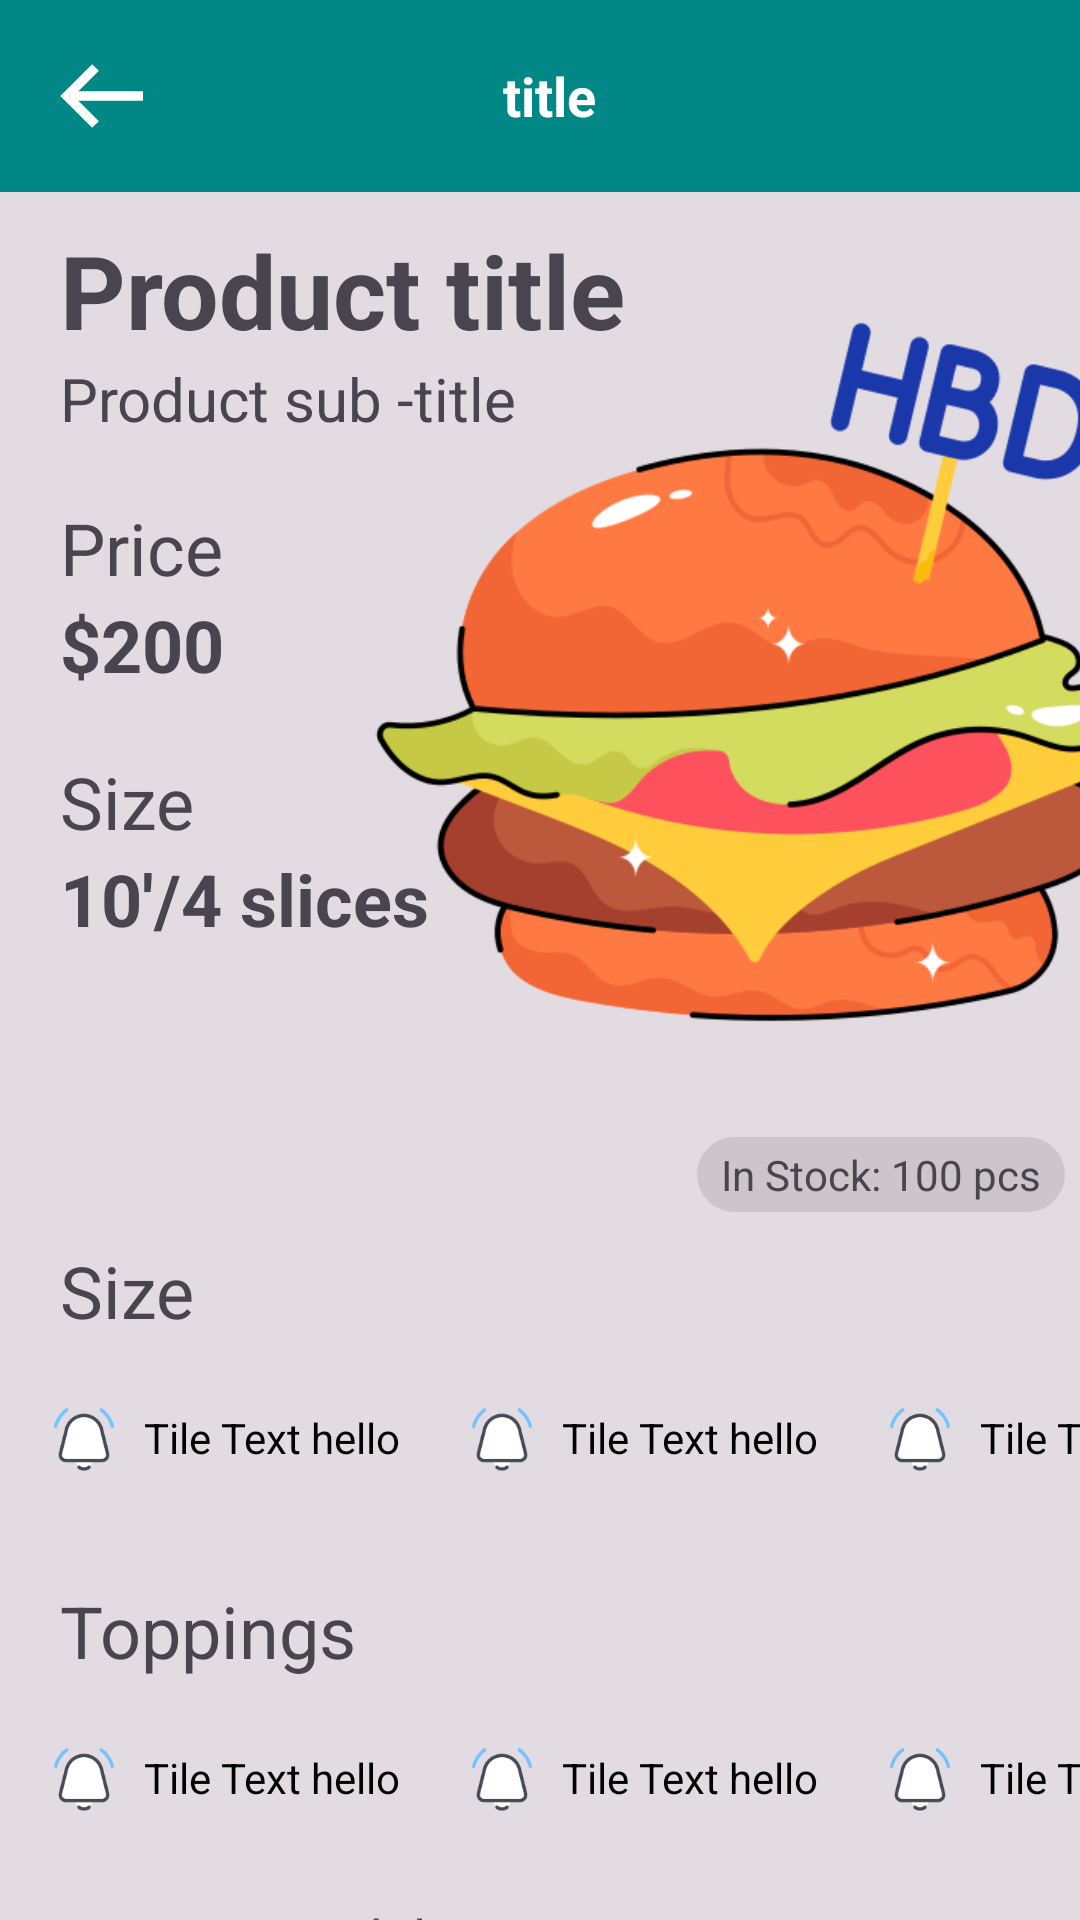

Icons on this 1080*1920 Android screen, each with the point to tap as (x=x, y=y):
back: (x=101, y=96)
